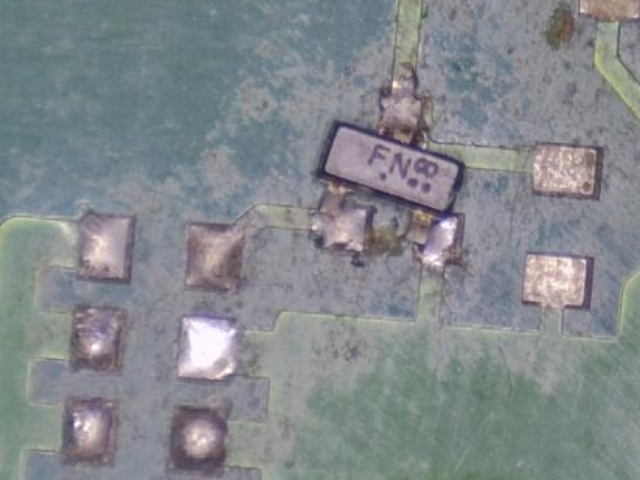pcb_defect: (318, 97, 468, 262)
